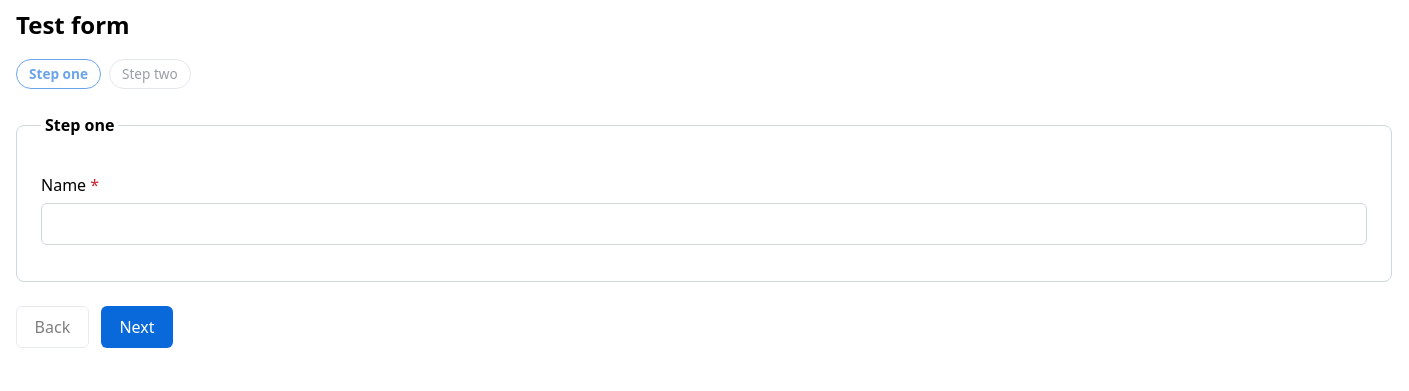
Test: FormRenderer — validation › blocks Next and reveals the error when a required field is left empty
Click the button "Next" at (137,327), box x1=101 y1=306 x2=173 y2=348
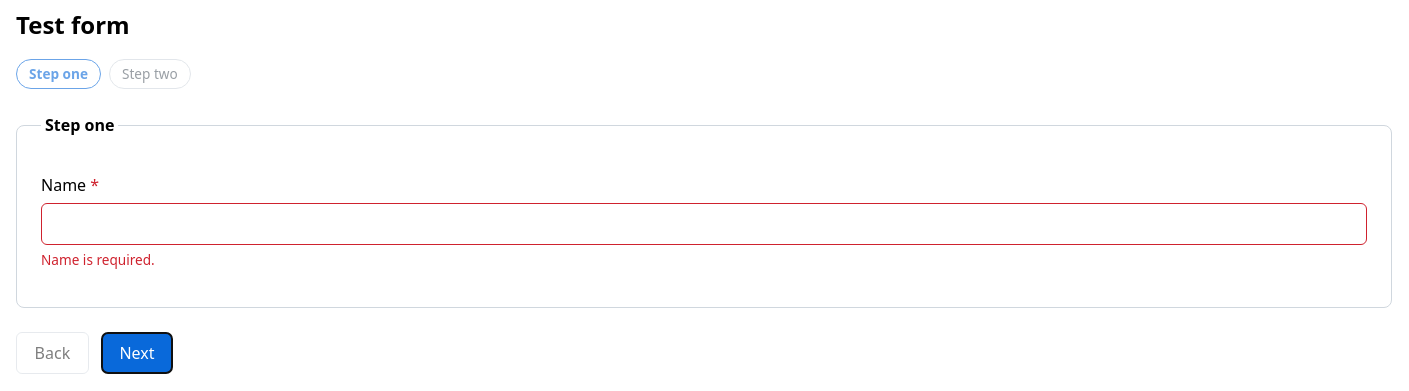
expect the text "Step one" is shown: met, box x1=41 y1=113 x2=118 y2=137
expect the message reads "Name is required.": met, box x1=41 y1=250 x2=155 y2=270
